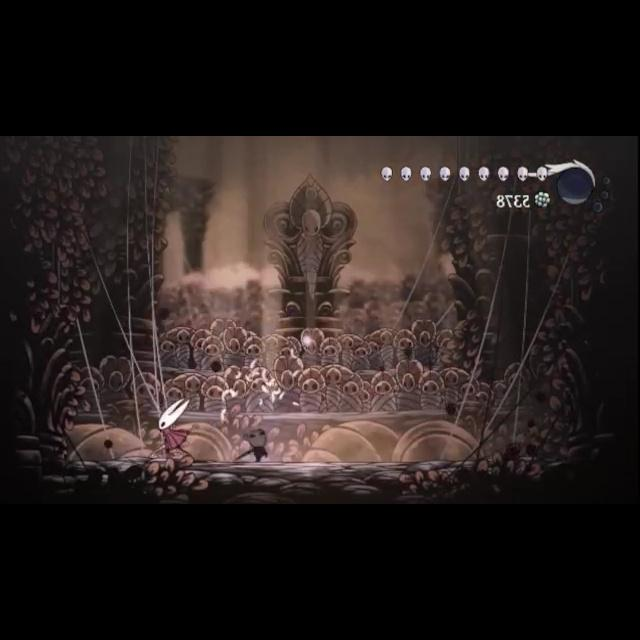Enemy: (145, 394, 199, 462)
Player: (232, 423, 274, 465)
